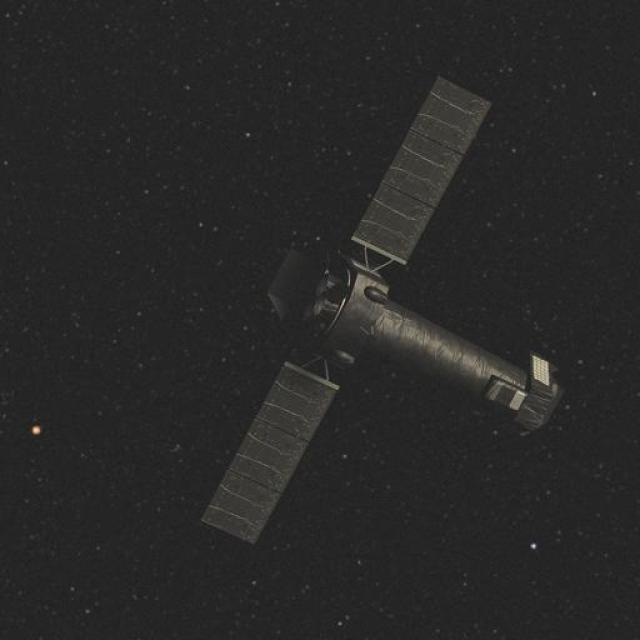xmm_newton: (210, 103, 591, 496)
